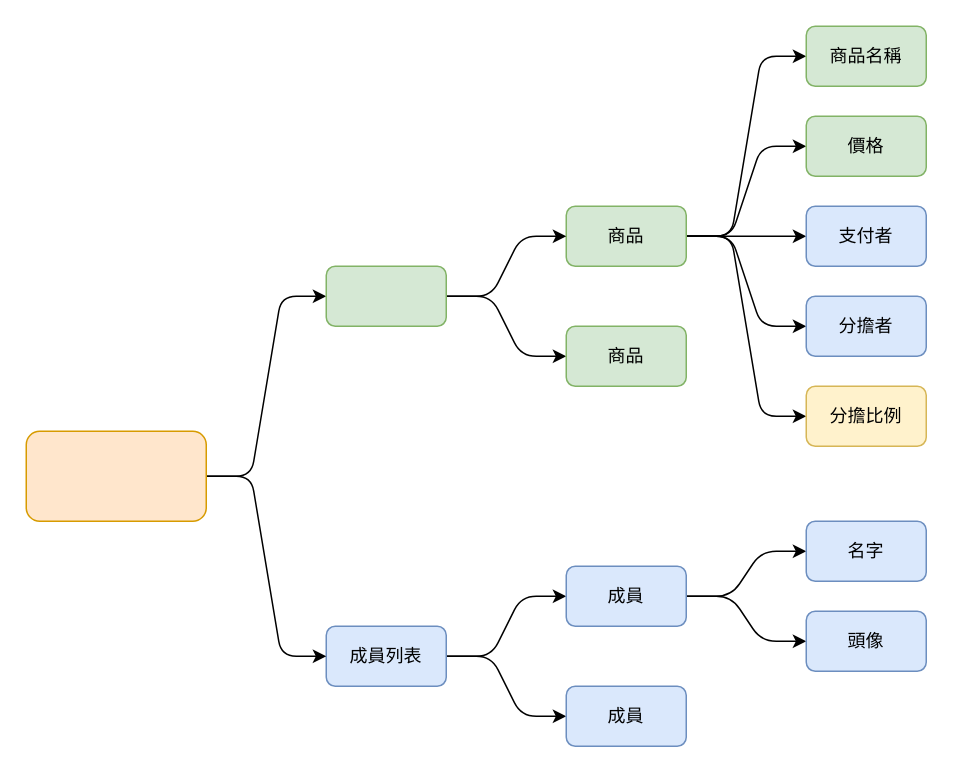
Some shapes in this 953 by 773 pixel diagram are drawn without their labels. Here are the shapes that lost their labels. From the top down, the centre of each, then its label:
point (385, 295): 商品列表
point (115, 475): 活動
